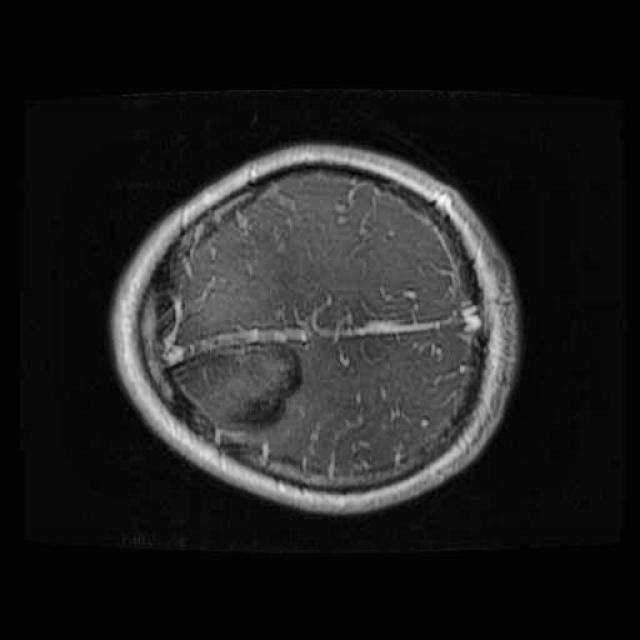Non-Tumor: (153, 326, 309, 450)
